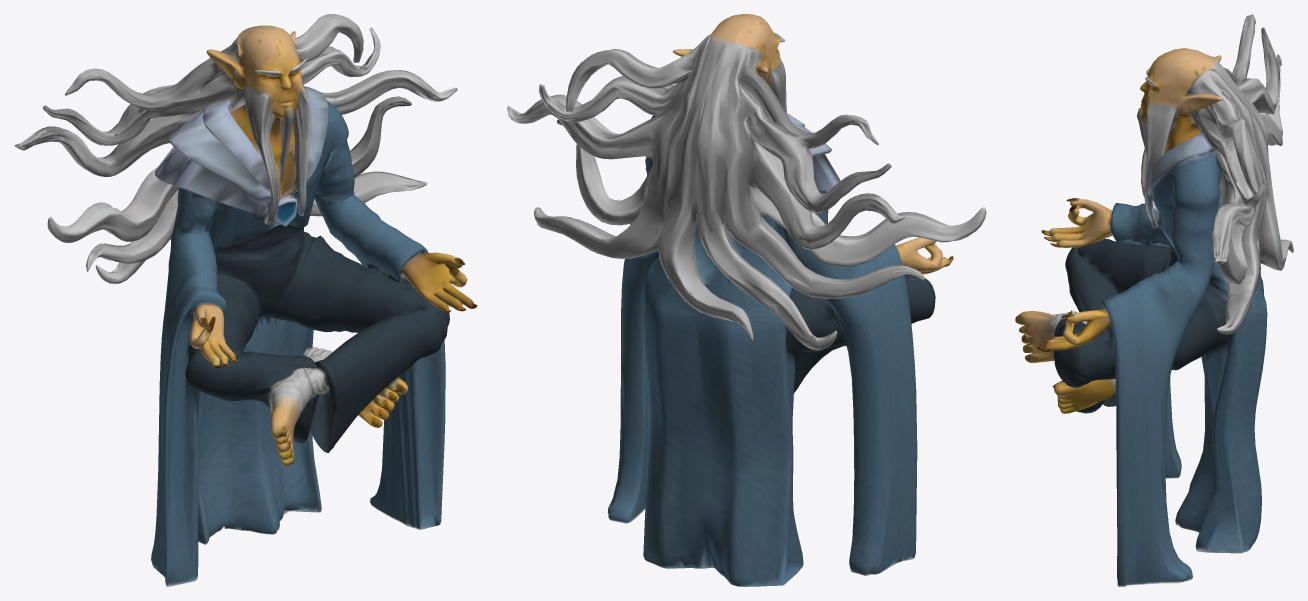
Rendered from MZ4250 - Githzerai Enlightened.glb.
3 views of the same model, side by side, from view 1: azimuth 30°, elevation 25°; view 2: azimuth 150°, elevation 25°; view 3: azimuth 270°, elevation 25° (orthographic). The views are drawn at different scales.
Parts seen in each view (by area): view 1: default; view 2: default; view 3: default.
Boxes of the visible parts, left/top/right/bottom form: default: left=14, top=14, right=477, bottom=586; default: left=506, top=14, right=986, bottom=586; default: left=1015, top=14, right=1293, bottom=586.
Bounding box in the file's own units: 0.9498 × 1.06 × 0.5653.
Materials: 1 (1 with a texture image).
